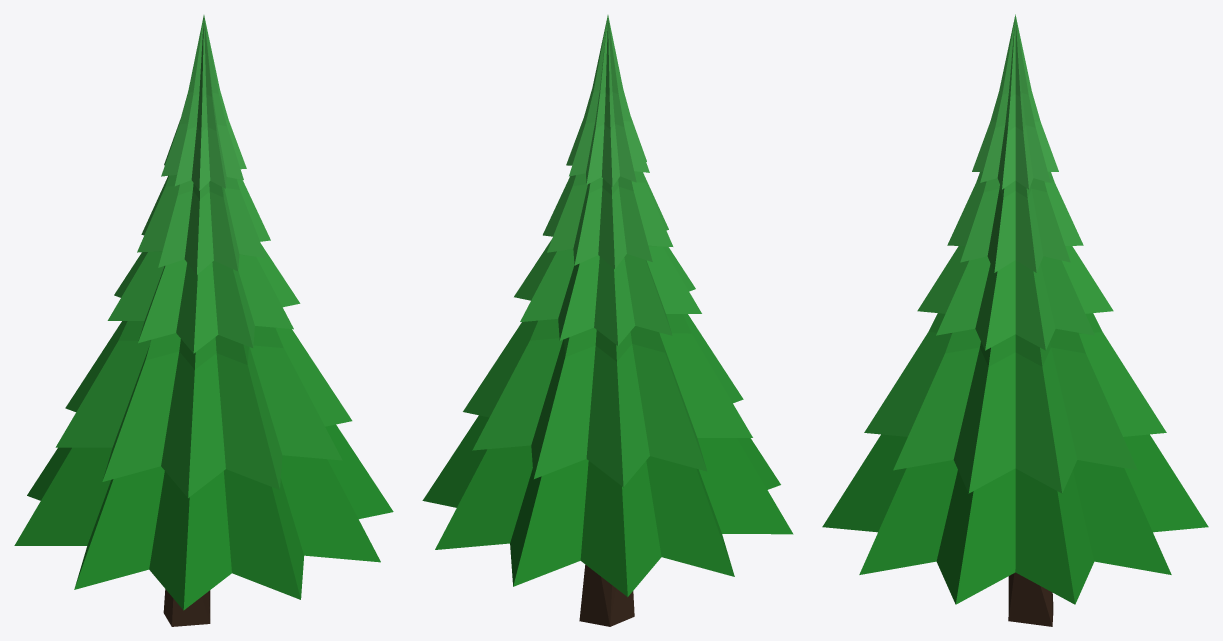
The model's file is Taiga_Tree3.fbx.
3 views of the same model, side by side, from view 1: azimuth 30°, elevation 25°; view 2: azimuth 150°, elevation 25°; view 3: azimuth 270°, elevation 25° (orthographic). The views are drawn at different scales.
Parts seen in each view (by area): view 1: Vert.005; view 2: Vert.005; view 3: Vert.005.
Boxes of the visible parts, x1=… form: Vert.005: x1=14, y1=15, x2=393, y2=626; Vert.005: x1=422, y1=15, x2=793, y2=626; Vert.005: x1=822, y1=14, x2=1208, y2=626.
Bounding box in the file's own units: 263 × 479 × 276.
